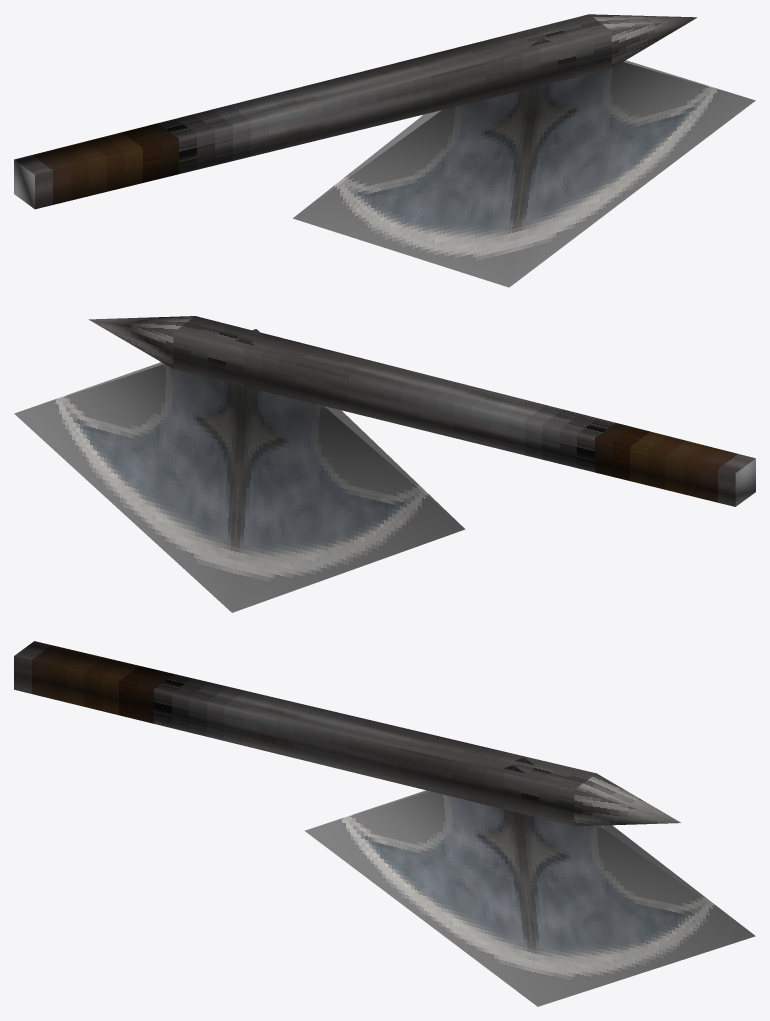
3 views of the same model, one above another, from view 1: azimuth 30°, elevation 25°; view 2: azimuth 150°, elevation 25°; view 3: azimuth 330°, elevation 25° (orthographic). The views are drawn at different scales.
Parts seen in each view (by area): view 1: IT60_DMSPRITEDEF_node; view 2: IT60_DMSPRITEDEF_node; view 3: IT60_DMSPRITEDEF_node.
Boxes of the visible parts, <box> form: IT60_DMSPRITEDEF_node: <box>14,14,755,287</box>; IT60_DMSPRITEDEF_node: <box>14,316,755,612</box>; IT60_DMSPRITEDEF_node: <box>14,641,755,1006</box>.
Size of the model in its own units: 2.63 by 0.9148 by 0.2.
Materials: 3 (3 with a texture image).
